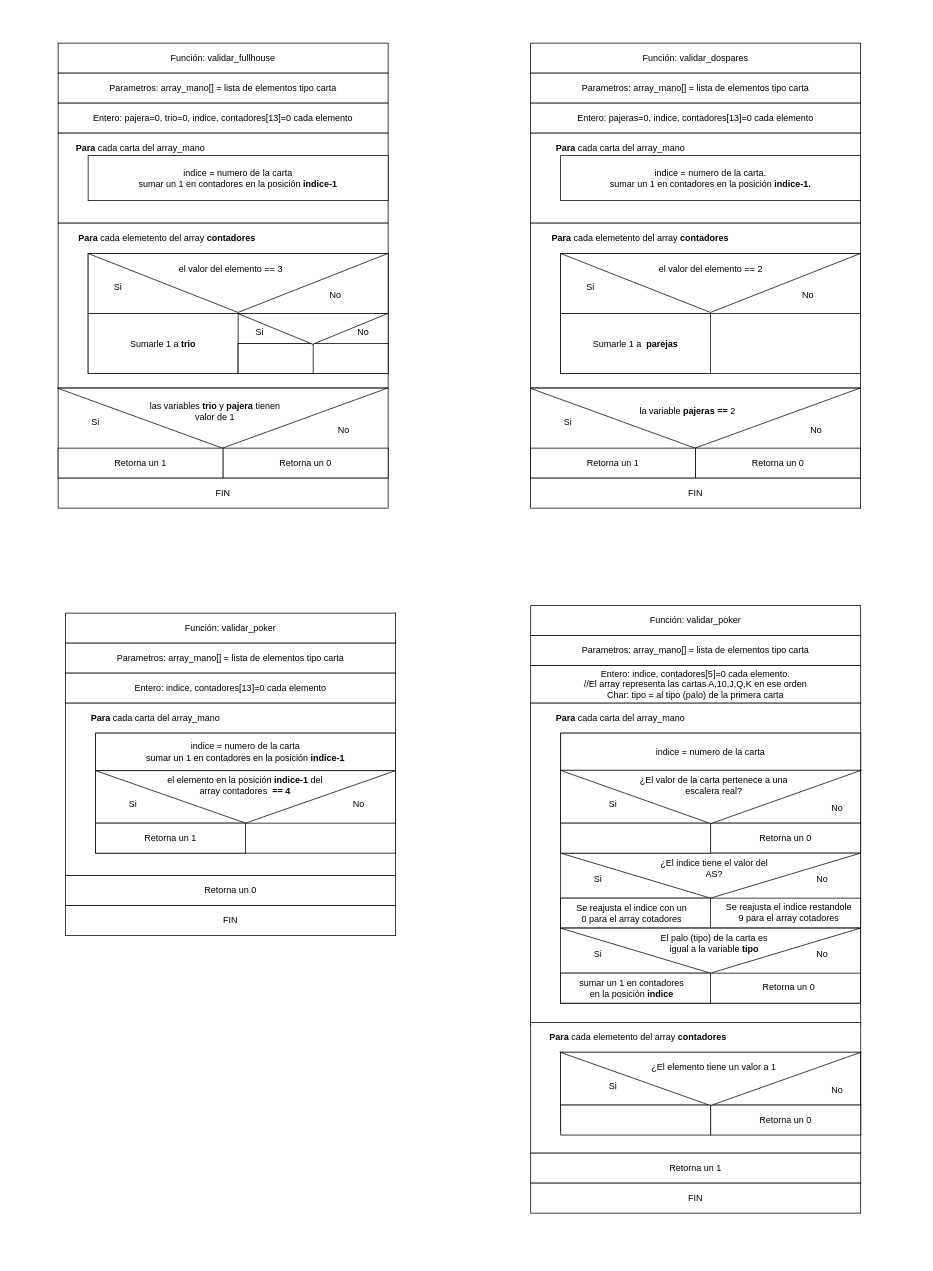
Some shapes in this 933 by 1271 pixel diagram are drawn without their labels. The box of each missing label's shape, as (x1, y1, x2, y2) in pixels:
El valor del elemento es 2: (237, 313, 388, 344)
Sumarle 1 a pareja: (237, 343, 313, 374)
